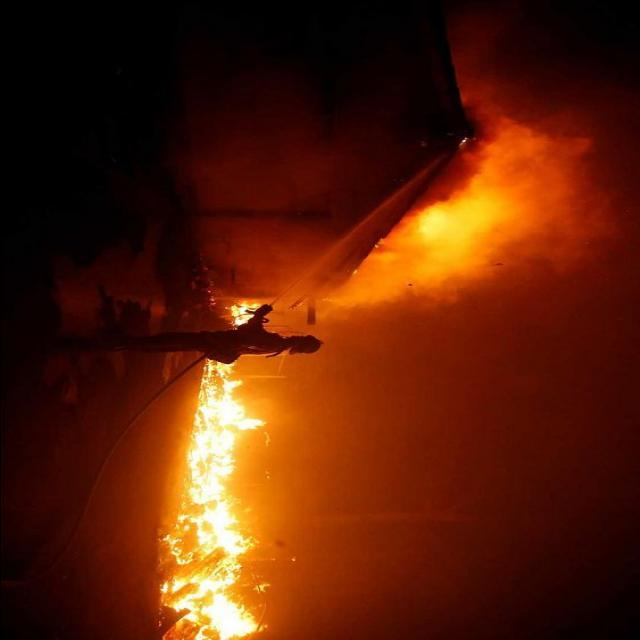Fire: (161, 364, 273, 636), (231, 304, 256, 322)
